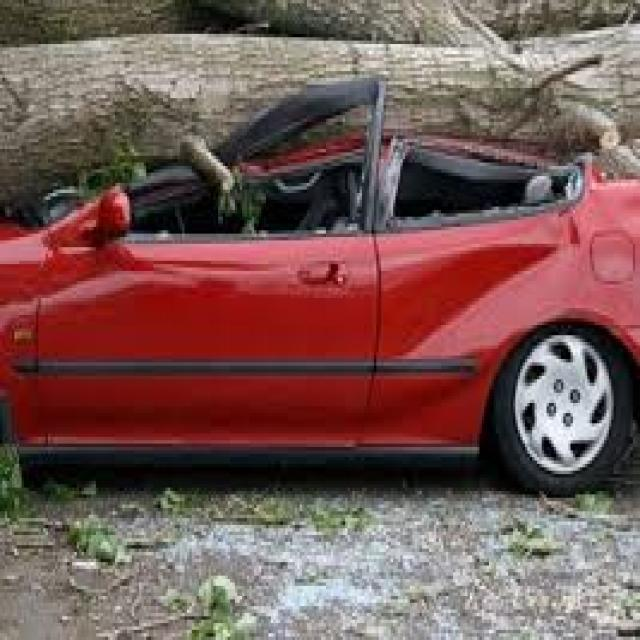severe: (17, 76, 640, 258)
